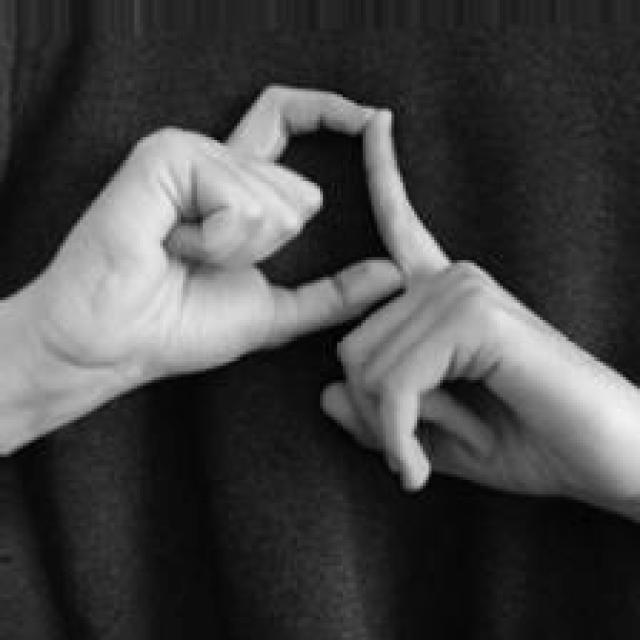D: (58, 78, 574, 502)
